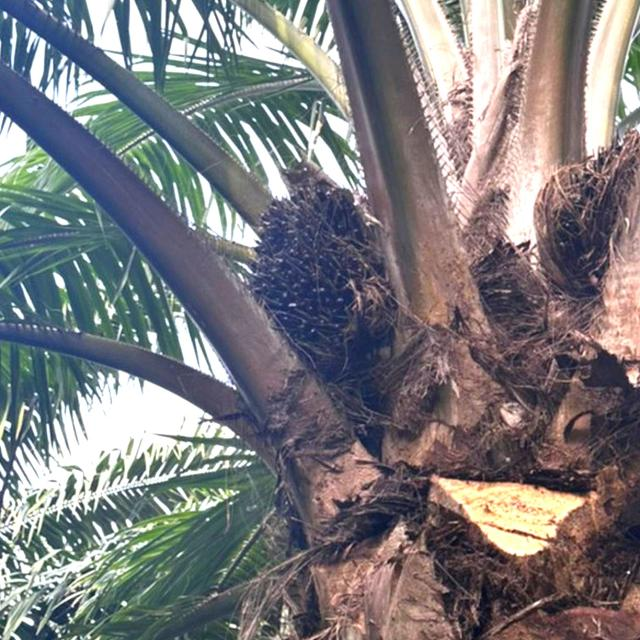almost: (247, 181, 400, 372)
